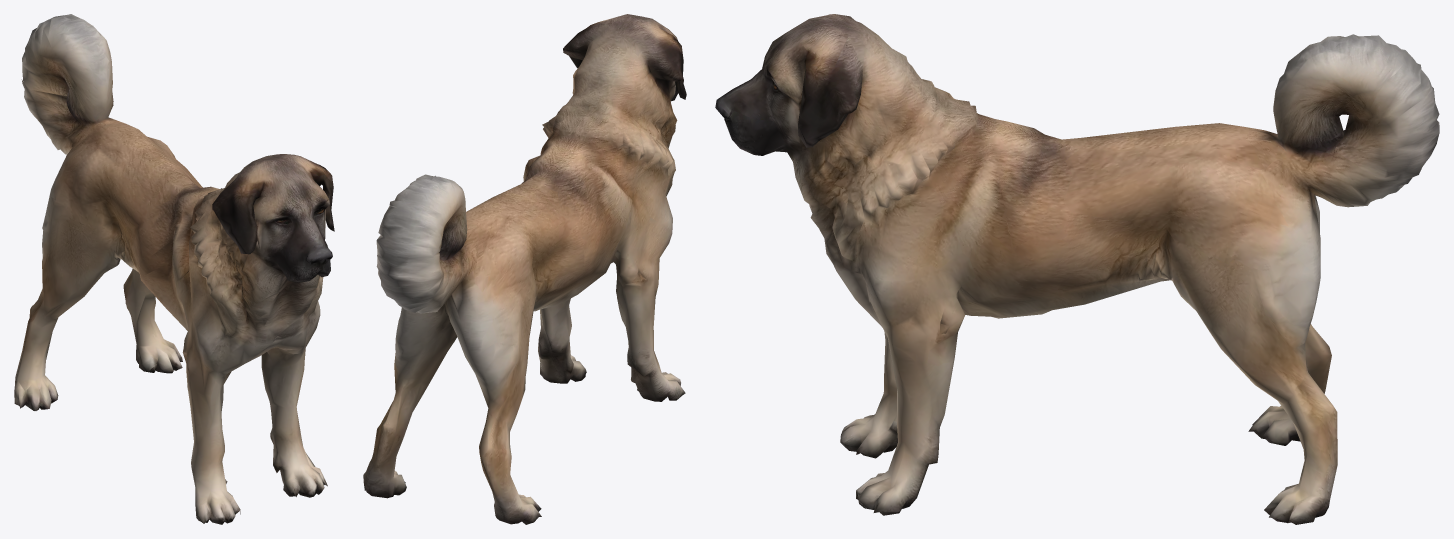
File: animal_dog.glb
The picture shows the model from 3 angles, left to right: view 1: azimuth 30°, elevation 25°; view 2: azimuth 150°, elevation 25°; view 3: azimuth 270°, elevation 25°; orthographic projection. The views are drawn at different scales.
Visible parts, largest first — view 1: tripo_node_b77ed319-6556-4af0-bd5b-5509013aa8b7; view 2: tripo_node_b77ed319-6556-4af0-bd5b-5509013aa8b7; view 3: tripo_node_b77ed319-6556-4af0-bd5b-5509013aa8b7.
Part boxes in pixels (x1,y1,x2,y2): tripo_node_b77ed319-6556-4af0-bd5b-5509013aa8b7: [14, 14, 334, 524]; tripo_node_b77ed319-6556-4af0-bd5b-5509013aa8b7: [363, 14, 686, 524]; tripo_node_b77ed319-6556-4af0-bd5b-5509013aa8b7: [715, 14, 1439, 524].
Bounding box in the file's own units: 0.3337 × 0.6775 × 0.9787.
1 material, 1 textured.
